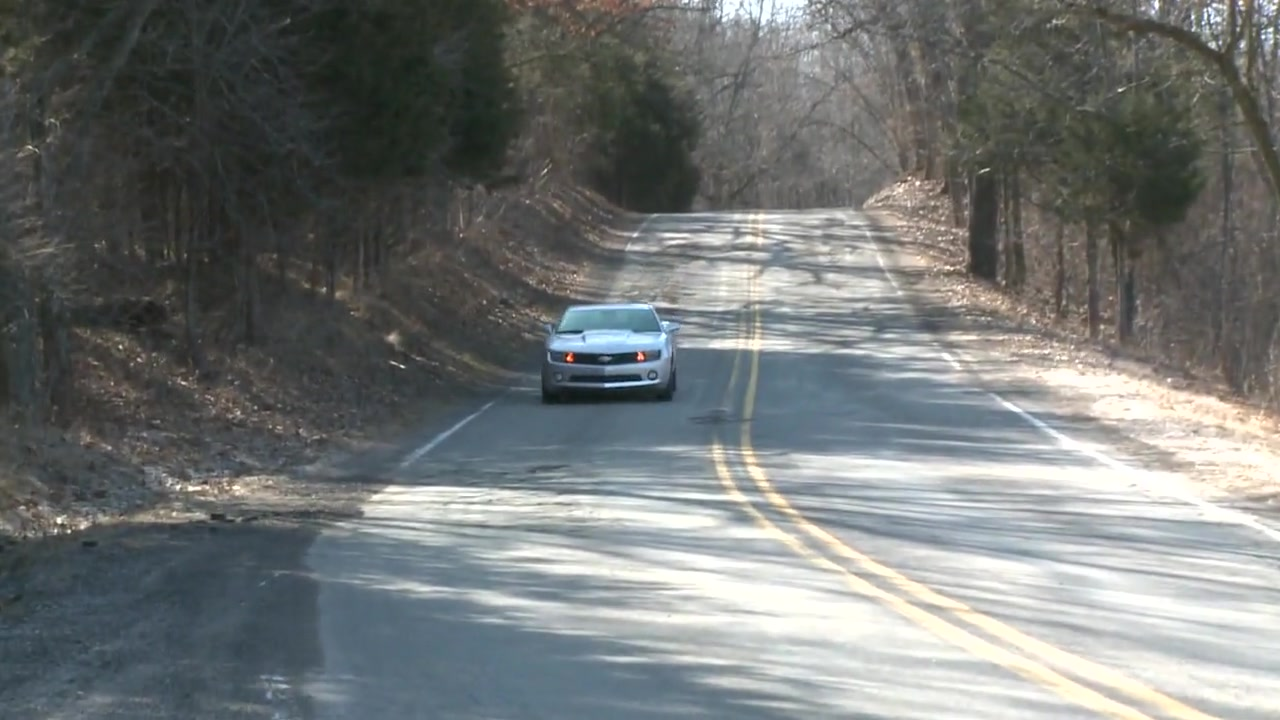car: (542, 300, 683, 402)
